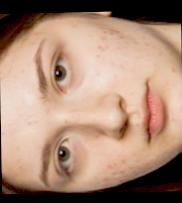Acne: (100, 26, 122, 34), (95, 44, 108, 51), (93, 54, 100, 58), (169, 65, 173, 72)
